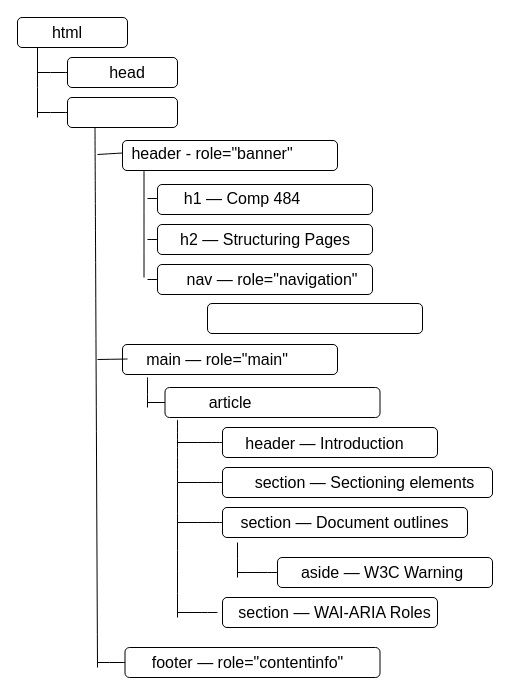
Some shapes in this 525 by 695 pixel diagram are drawn without their labels. The shapes that lost their labels are listed below. From the top down, each one's centre as x and y in pixels, then its label:
At point 122,112: "body".
At point 314,318: "ul — Navigation links".
